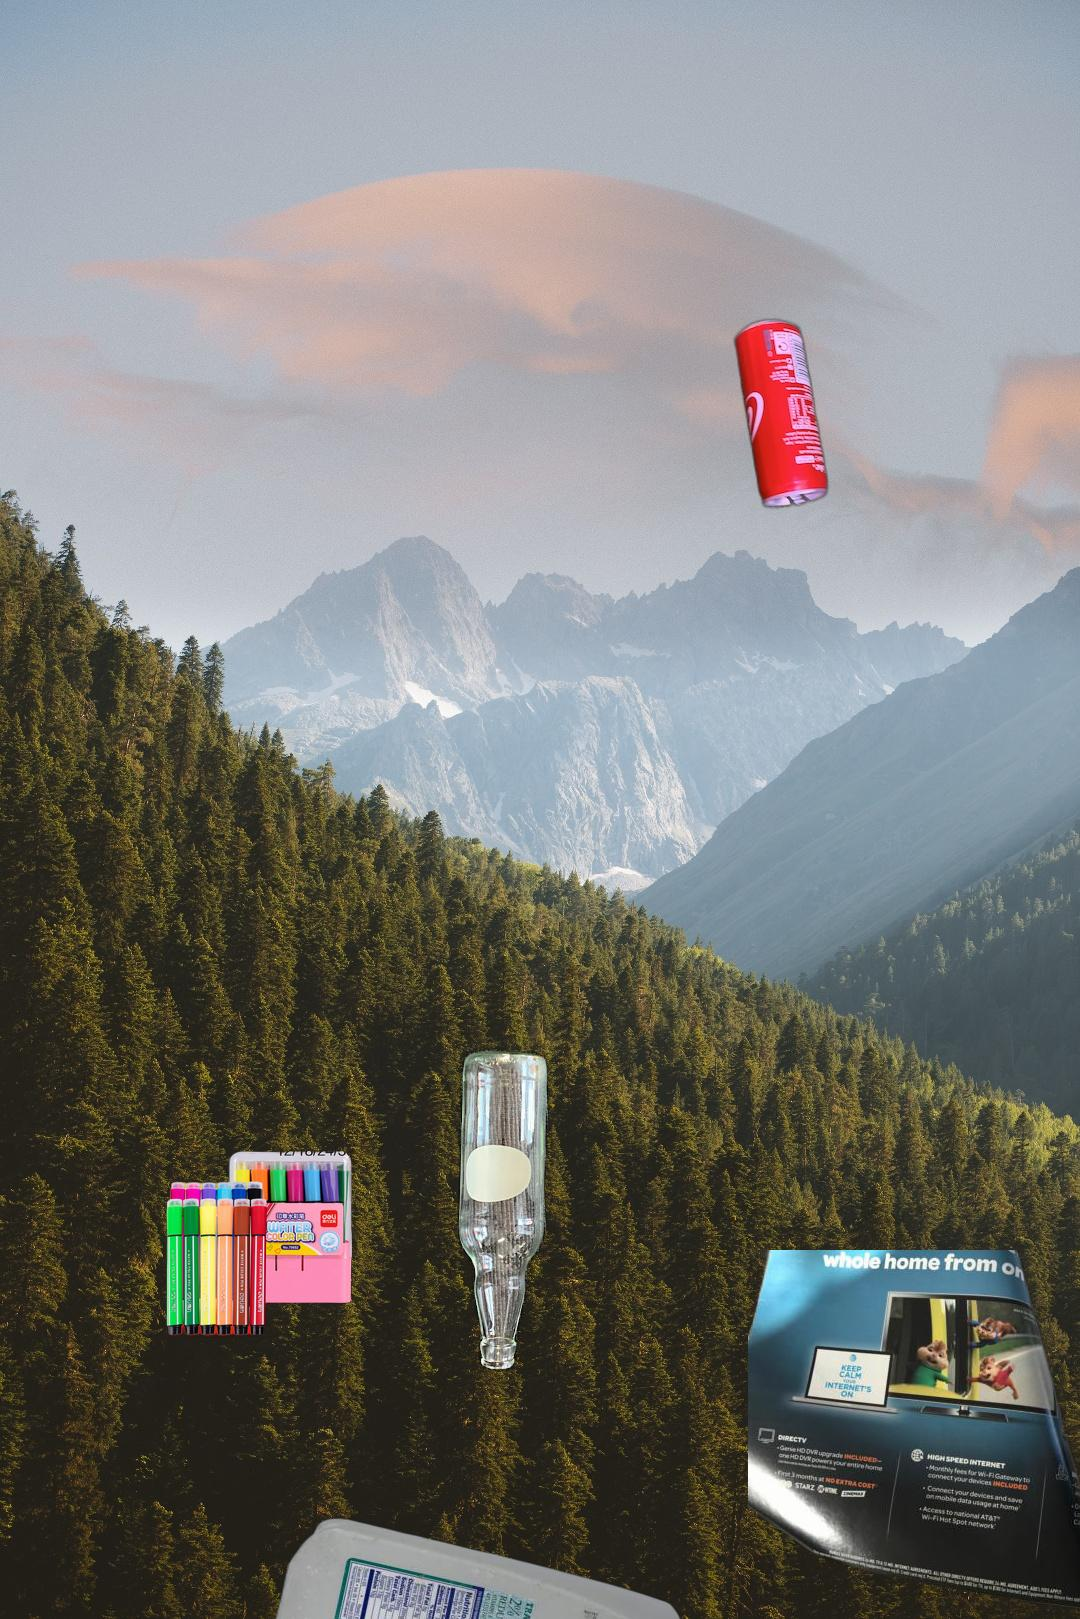glass: (453, 1043, 553, 1377)
metal-cans: (730, 313, 833, 514)
paper: (749, 1250, 1080, 1613)
penholder: (163, 1144, 356, 1338)
plastic-bottles: (260, 1517, 724, 1619)
